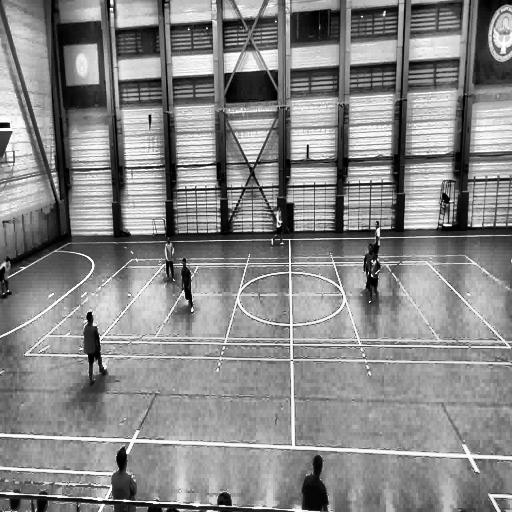ball: (101, 362, 108, 374)
player: (84, 310, 104, 386), (367, 248, 382, 304), (180, 257, 194, 312), (364, 243, 375, 296), (0, 256, 13, 297), (271, 204, 284, 244), (373, 217, 382, 271), (165, 236, 175, 282)
